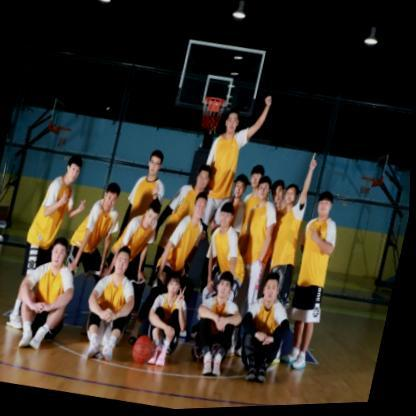basketball: (132, 334, 157, 366)
rim: (197, 96, 227, 136)
